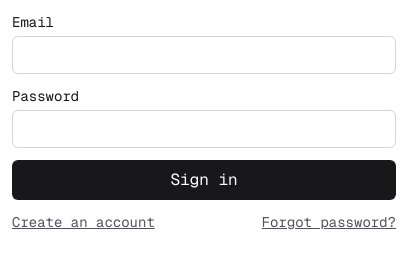
EmailAuthForm › shows a sign-in error and stays put
Step 1. Type "a@b.co" into the field labelled "Email" → [204, 55], box [12, 36, 396, 74]
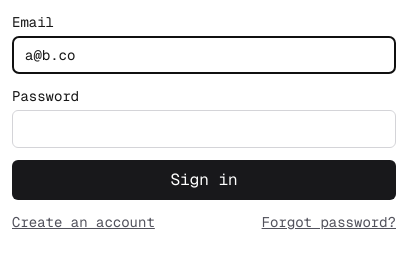
Step 2. Type "wrongpass" into the password field labelled "Password" → [204, 129], box [12, 110, 396, 148]
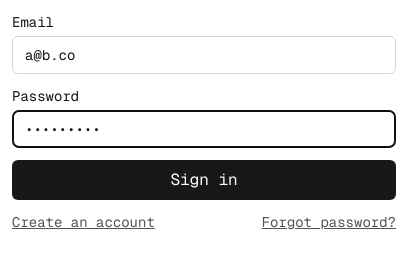
Step 3. Click the button "Sign in" → [204, 180], box [12, 160, 396, 200]
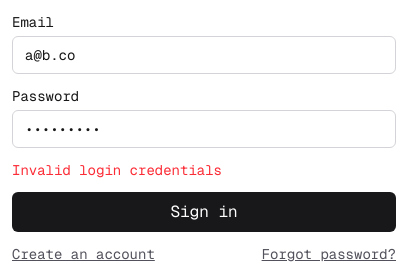
Expected: the message reads "Invalid login credentials", [12, 161, 222, 179]
